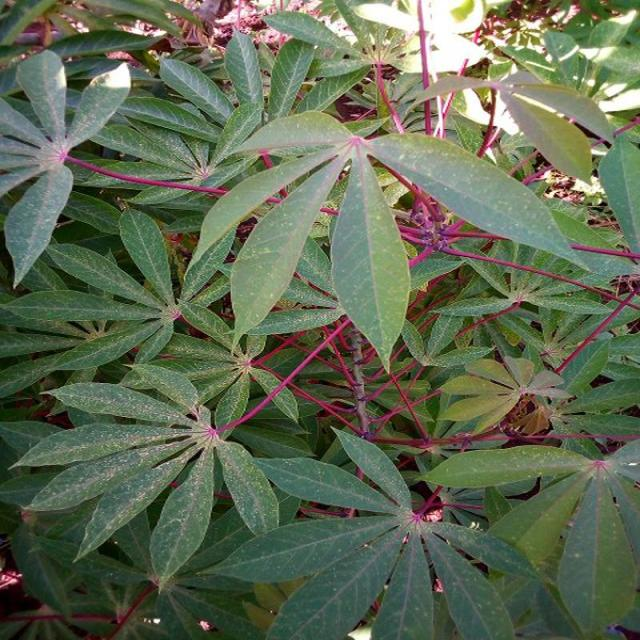cassava leaf: (0, 5, 638, 637), (329, 140, 411, 374)
